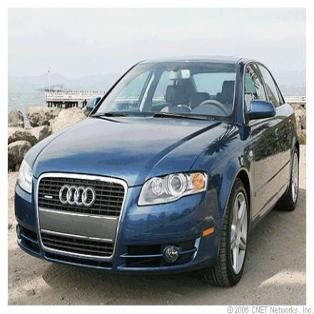Auto: (13, 57, 300, 290)
